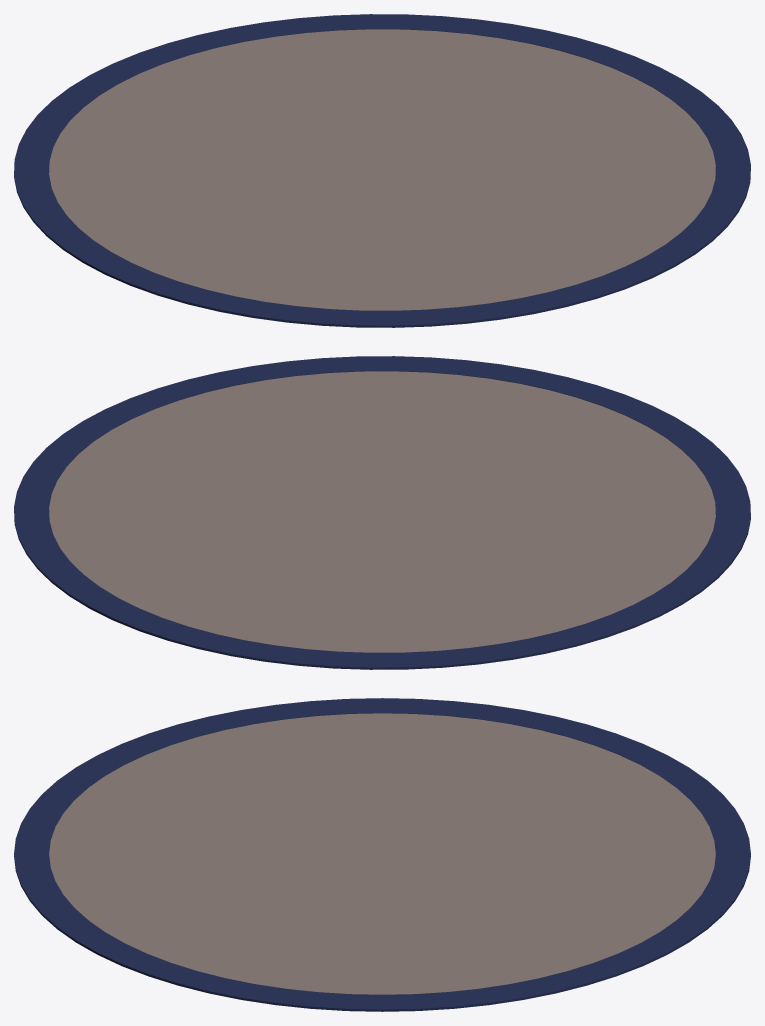
File: rug_round.glb
The picture shows the model from 3 angles, top to bottom: view 1: azimuth 30°, elevation 25°; view 2: azimuth 150°, elevation 25°; view 3: azimuth 270°, elevation 25°; orthographic projection.
Parts seen in each view (by area): view 1: Field_LOD0, Border_LOD0; view 2: Field_LOD0, Border_LOD0; view 3: Field_LOD0, Border_LOD0.
Part boxes in pixels (bbox=[...]): Field_LOD0: bbox=[49, 29, 715, 310]; Border_LOD0: bbox=[14, 14, 750, 327]; Field_LOD0: bbox=[49, 371, 715, 652]; Border_LOD0: bbox=[14, 356, 750, 669]; Field_LOD0: bbox=[49, 713, 715, 994]; Border_LOD0: bbox=[14, 698, 750, 1011].
Size of the model in its own units: 4.2 by 0.014 by 4.2.
